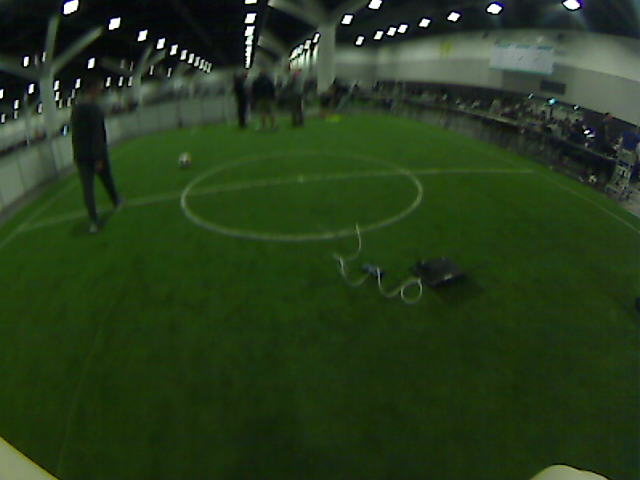ball: (176, 150, 194, 167), (586, 173, 599, 186)
goalpost: (221, 77, 234, 121)
